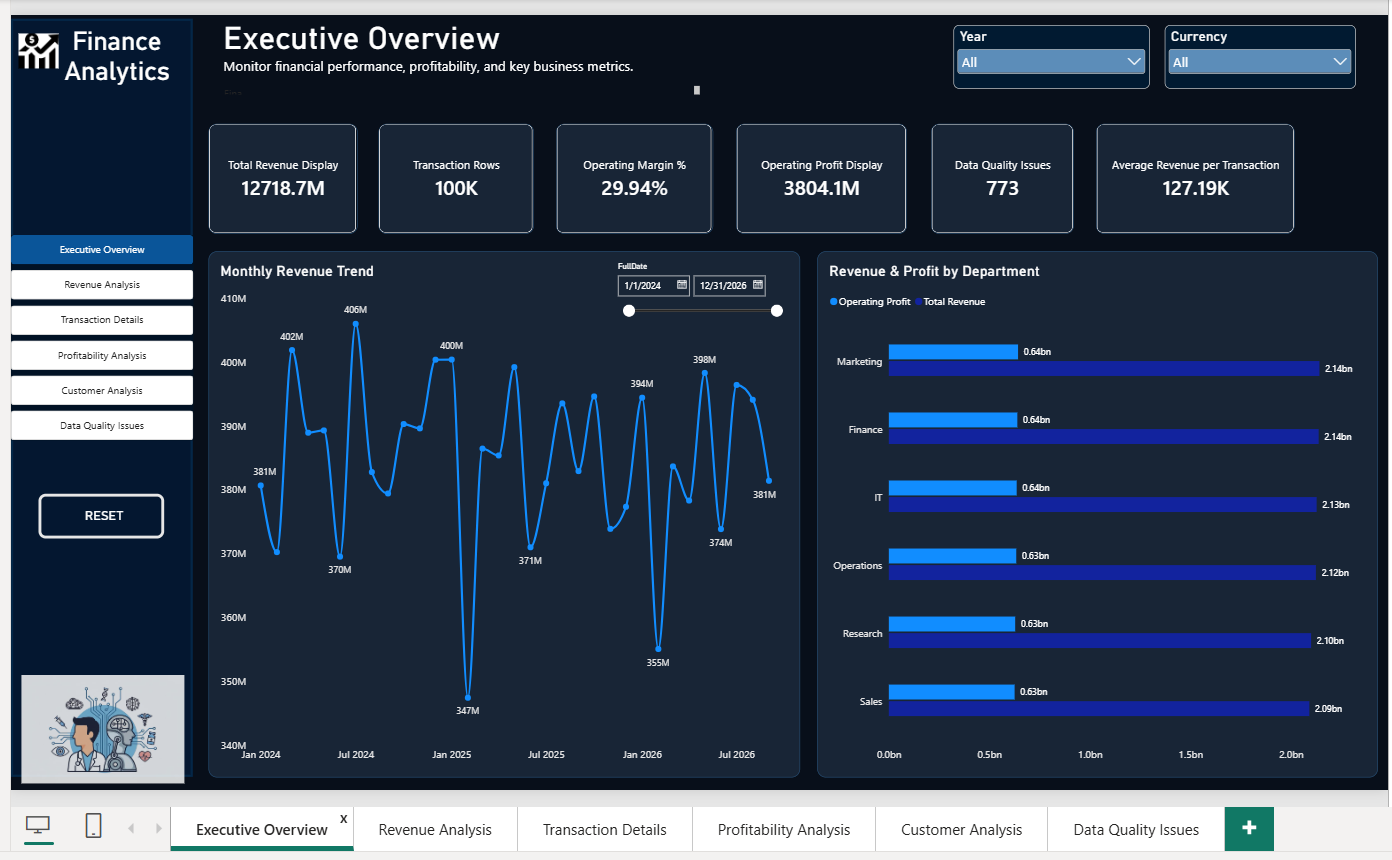

What the dashboard file says about the page in this screenshot:
{"tool":"powerbi","page":{"name":"Executive Overview","canvas":[1920,1080],"ordinal":0},"visuals":[{"type":"textbox","title":" Executive Overview","box":[296,6,664,106],"z":0},{"type":"cardVisual","fields":{"Data":["dw FactTransactions.Total Revenue Display"]},"box":[274.8,151.5,207.8,153.7],"z":1000},{"type":"cardVisual","fields":{"Data":["dw FactTransactions.Operating Profit Display"]},"box":[1010.7,151.5,238.1,153.7],"z":2000},{"type":"cardVisual","fields":{"Data":["Measures (2).Transaction Rows"]},"box":[512.9,151.5,216.4,153.7],"z":3000},{"type":"cardVisual","fields":{"Data":["Measures (2).Operating Margin %"]},"box":[760.1,152,219,153.8],"z":4000},{"type":"slicer","fields":{"Values":["dw DimDate.CalendarYear"]},"box":[1313.8,14.5,273.3,88.7],"z":5000},{"type":"slicer","fields":{"Values":["dw DimCurrency.CurrencyCode"]},"box":[1608.8,14.5,266,88.7],"z":6000},{"type":"lineChart","title":"Monthly Revenue Trend","fields":{"Category":["dw DimDate.FullDate.Variation.Date Hierarchy.Year","dw DimDate.FullDate.Variation.Date Hierarchy.Month"],"Y":["Measures (2).Total Revenue"]},"box":[274.8,328.9,824.5,733.6],"z":7000},{"type":"clusteredBarChart","title":"Revenue & Profit by Department","fields":{"Category":["dw DimDepartment.DepartmentName"],"Y":["Measures (2).Operating Profit","Measures (2).Total Revenue"]},"box":[1123.2,328.9,781.3,733.6],"z":8000},{"type":"cardVisual","fields":{"Data":["Measures (2).Data Quality Issues"]},"box":[1283.3,151.5,199.1,153.7],"z":9000},{"type":"slicer","fields":{"Values":["dw DimDate.FullDate"]},"box":[837.9,343.8,245.7,87.1],"z":11000},{"type":"shape","box":[0,5.4,253.4,1056.8],"z":14000},{"type":"textbox","title":"Finance Analytics","box":[21.6,6.5,254,90],"z":15000},{"type":"pageNavigator","box":[0,306,254,286],"z":16000},{"type":"cardVisual","fields":{"Data":["Measures (2).Average Revenue per Transaction"]},"box":[1512.7,151.5,277,153.7],"z":16001},{"type":"actionButton","title":"RESET","box":[39,666.6,175.3,62.8],"z":16002},{"type":"image","box":[10.8,21.6,56.3,58.4],"z":16003},{"type":"image","box":[2.2,919.8,253.2,151.5],"z":16004}]}

Visuals, with their boxes on the page's 1920x1080 design canvas (x1, y1, x2, y2). These are canvas units, not pixel positions in the 1392x860 screenshot, which may show the page scaled, cropped or inside an application window:
" Executive Overview" textbox: bbox(296, 6, 960, 112)
cardVisual - dw FactTransactions.Total Revenue Display: bbox(275, 152, 483, 305)
cardVisual - dw FactTransactions.Operating Profit Display: bbox(1011, 152, 1249, 305)
cardVisual - Measures (2).Transaction Rows: bbox(513, 152, 729, 305)
cardVisual - Measures (2).Operating Margin %: bbox(760, 152, 979, 306)
slicer - dw DimDate.CalendarYear: bbox(1314, 14, 1587, 103)
slicer - dw DimCurrency.CurrencyCode: bbox(1609, 14, 1875, 103)
"Monthly Revenue Trend" lineChart: bbox(275, 329, 1099, 1062)
"Revenue & Profit by Department" clusteredBarChart: bbox(1123, 329, 1904, 1062)
cardVisual - Measures (2).Data Quality Issues: bbox(1283, 152, 1482, 305)
slicer - dw DimDate.FullDate: bbox(838, 344, 1084, 431)
shape: bbox(0, 5, 253, 1062)
"Finance Analytics" textbox: bbox(22, 6, 276, 96)
pageNavigator: bbox(0, 306, 254, 592)
cardVisual - Measures (2).Average Revenue per Transaction: bbox(1513, 152, 1790, 305)
"RESET" actionButton: bbox(39, 667, 214, 729)
image: bbox(11, 22, 67, 80)
image: bbox(2, 920, 255, 1071)
